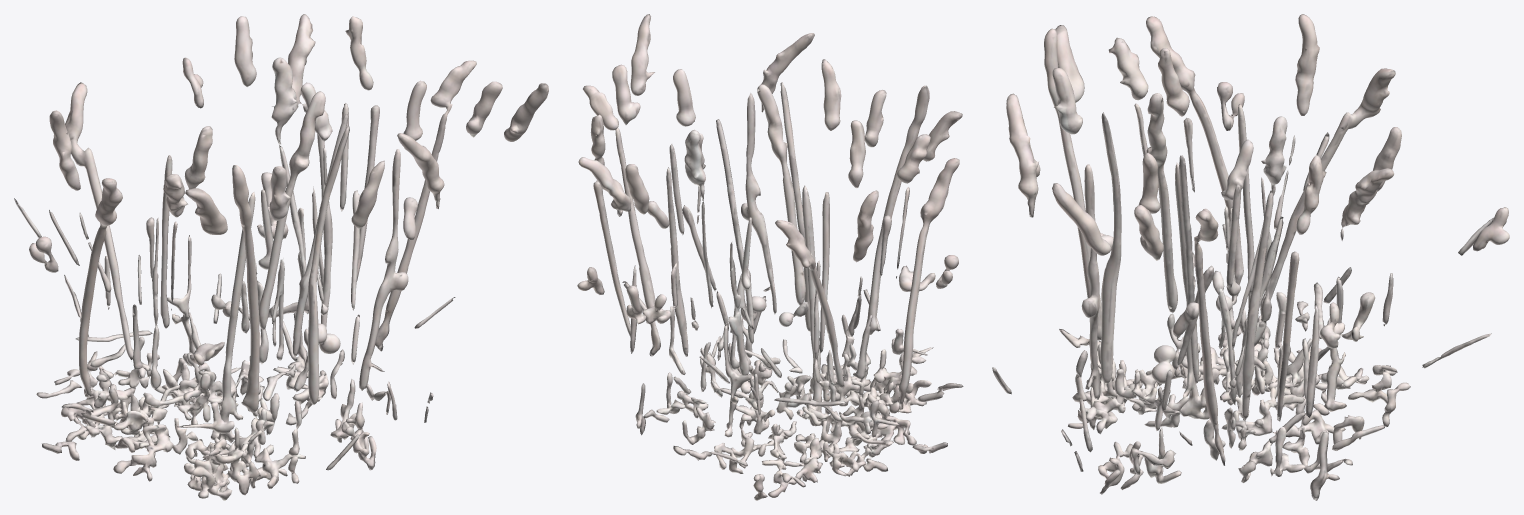
File: Cardamom.glb
3 renders of one model, left to right at view 1: azimuth 30°, elevation 25°; view 2: azimuth 150°, elevation 25°; view 3: azimuth 270°, elevation 25°, orthographic. The views are drawn at different scales.
Size of the model in its own units: 1.81 by 1.47 by 1.75.
1 material, 1 textured.
